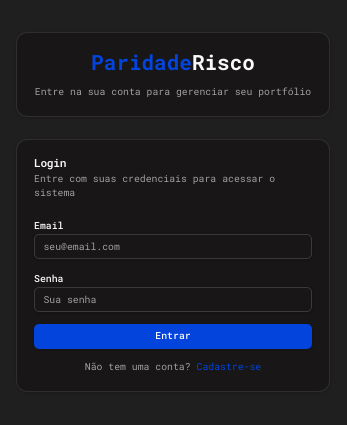
Test: LoginPage › validates email format
The width and height of the screenshot is (347, 425).
Type "invalid-email" into the field labelled "Email" at (173, 247), box [34,234,312,259]
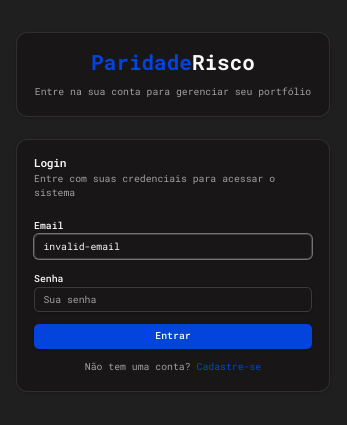
Click the button "Entrar" at (173, 336), box [34,324,312,349]
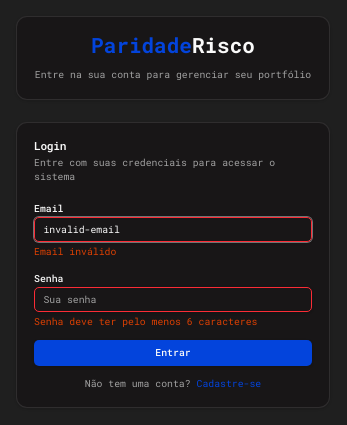
Now the text "Email inválido" is shown, box [34,245,116,258]
